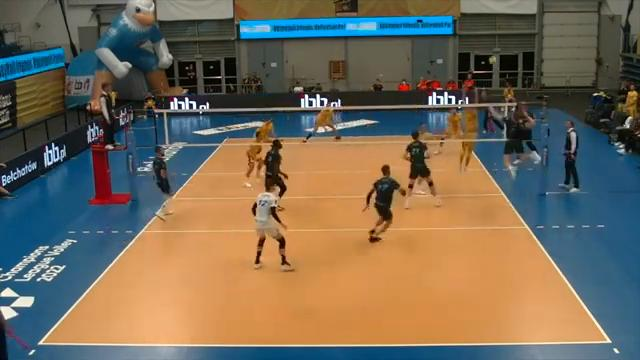attacco: (486, 102, 535, 187)
muro: (457, 83, 483, 174)
